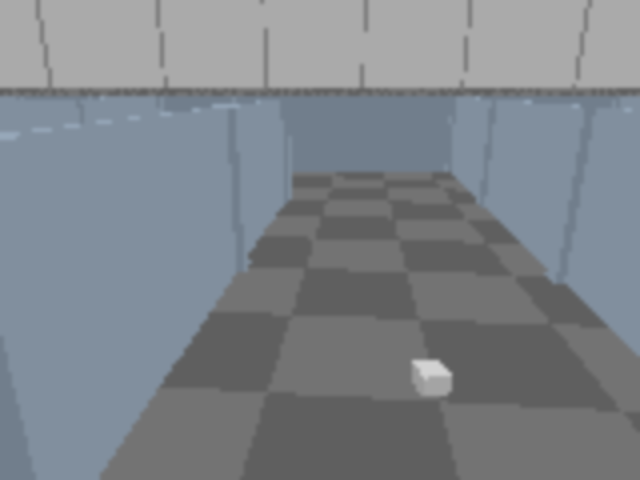puck: (411, 358, 452, 398)
